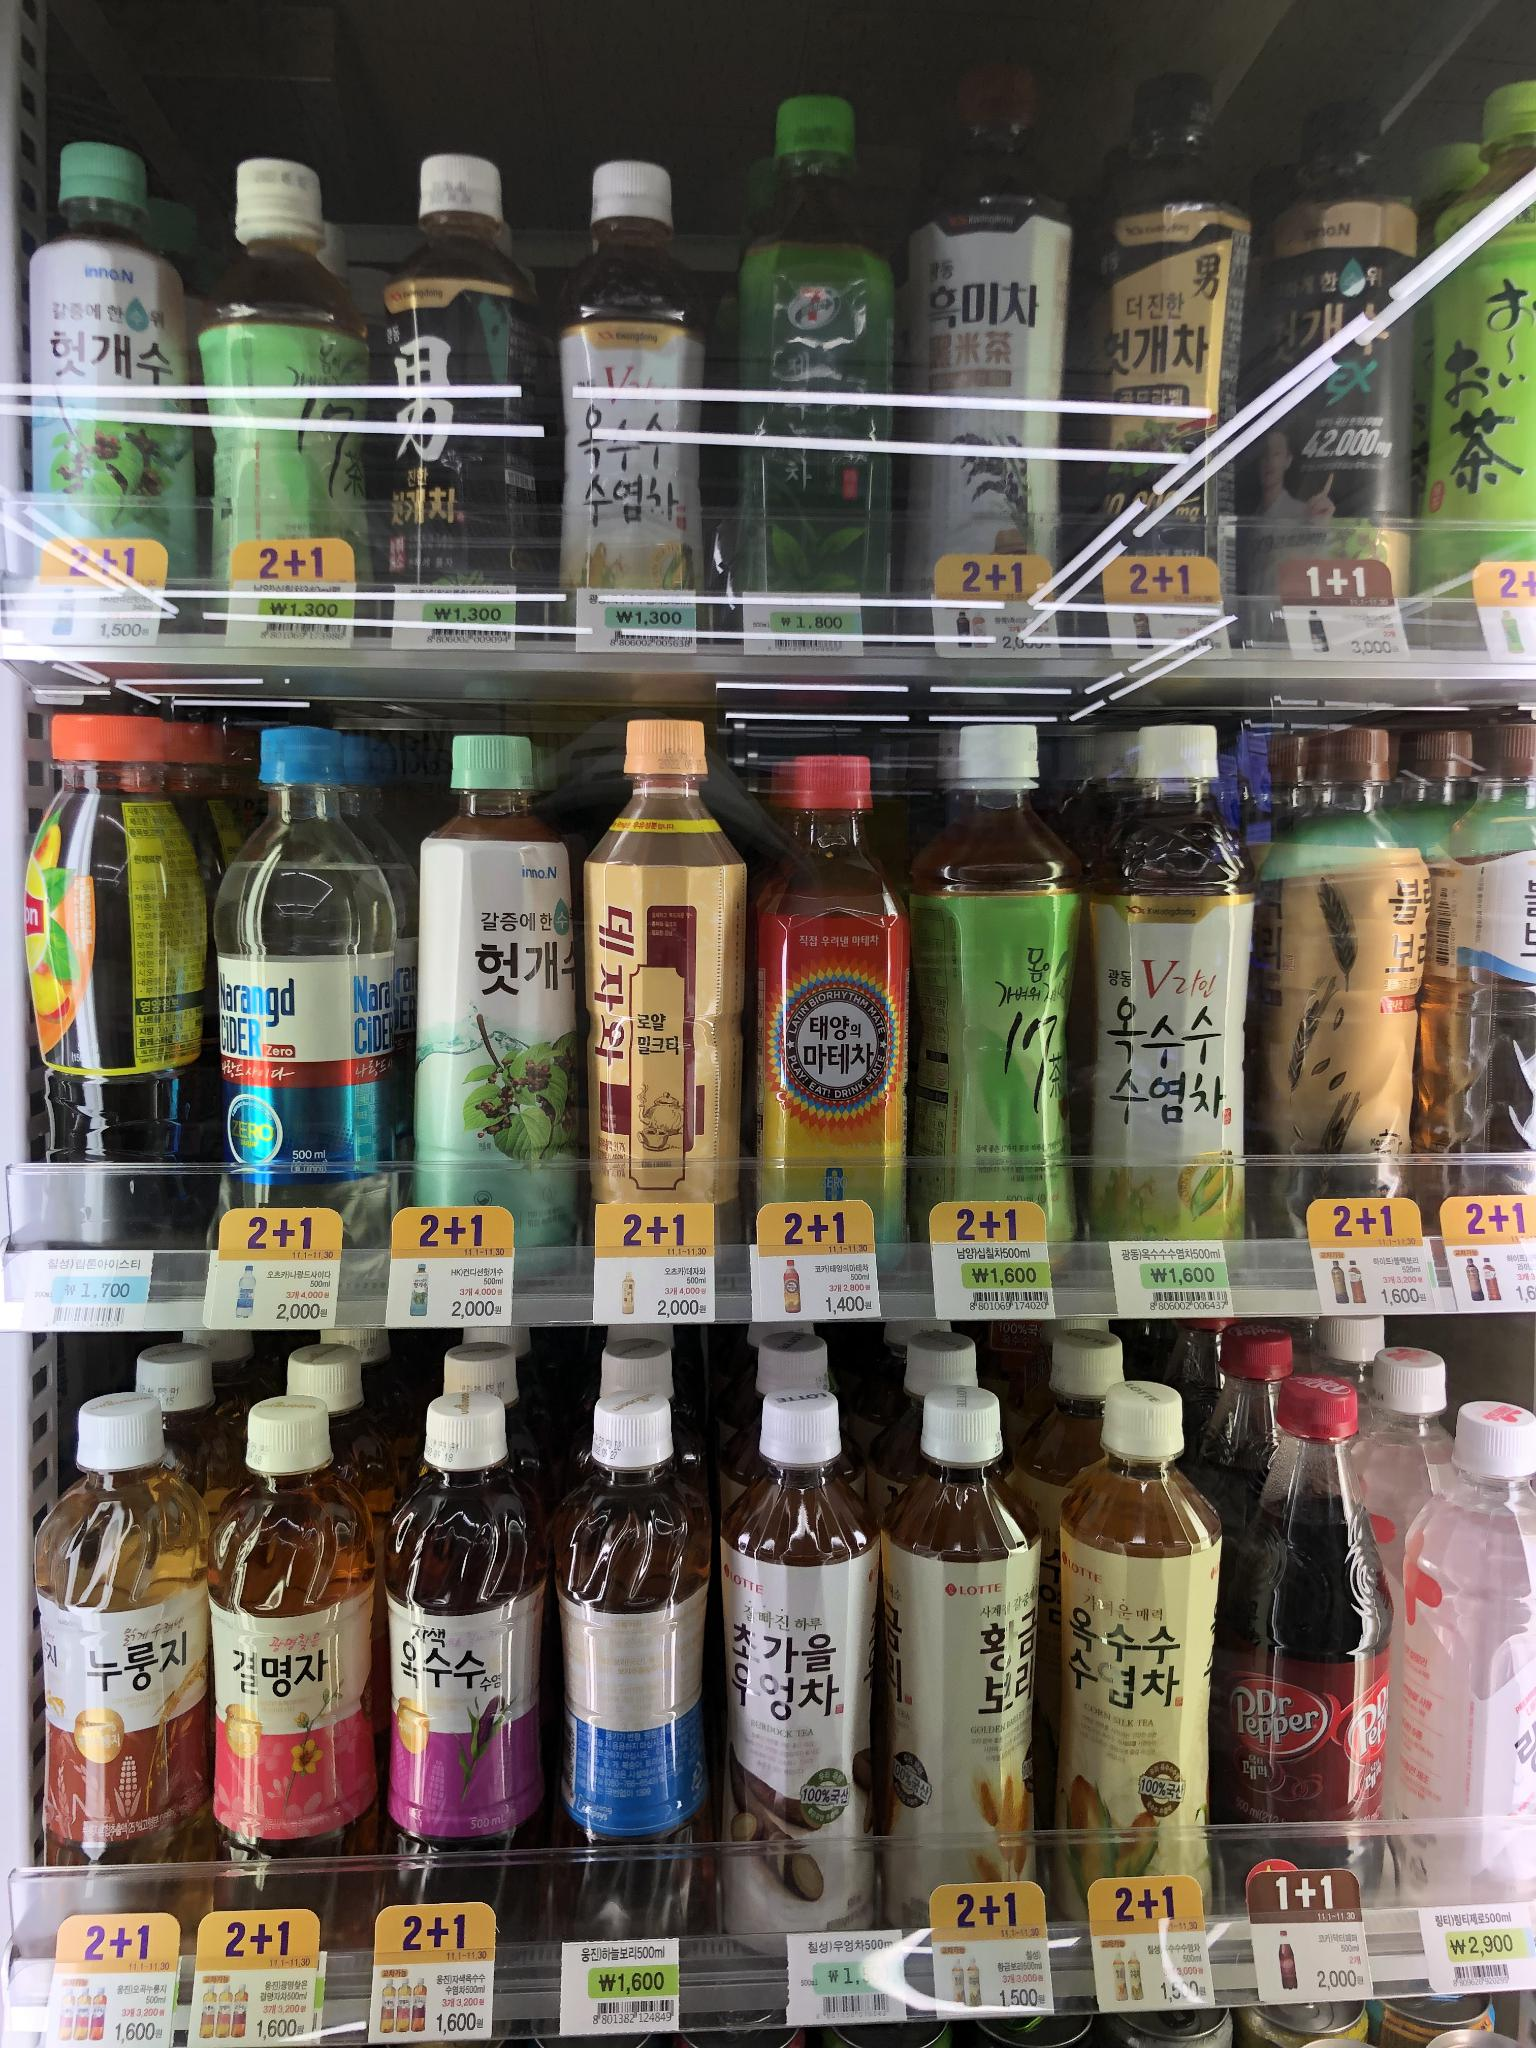haneulbori: (563, 1379, 721, 1937)
oksususuyeomcha: (1087, 711, 1239, 1259)
